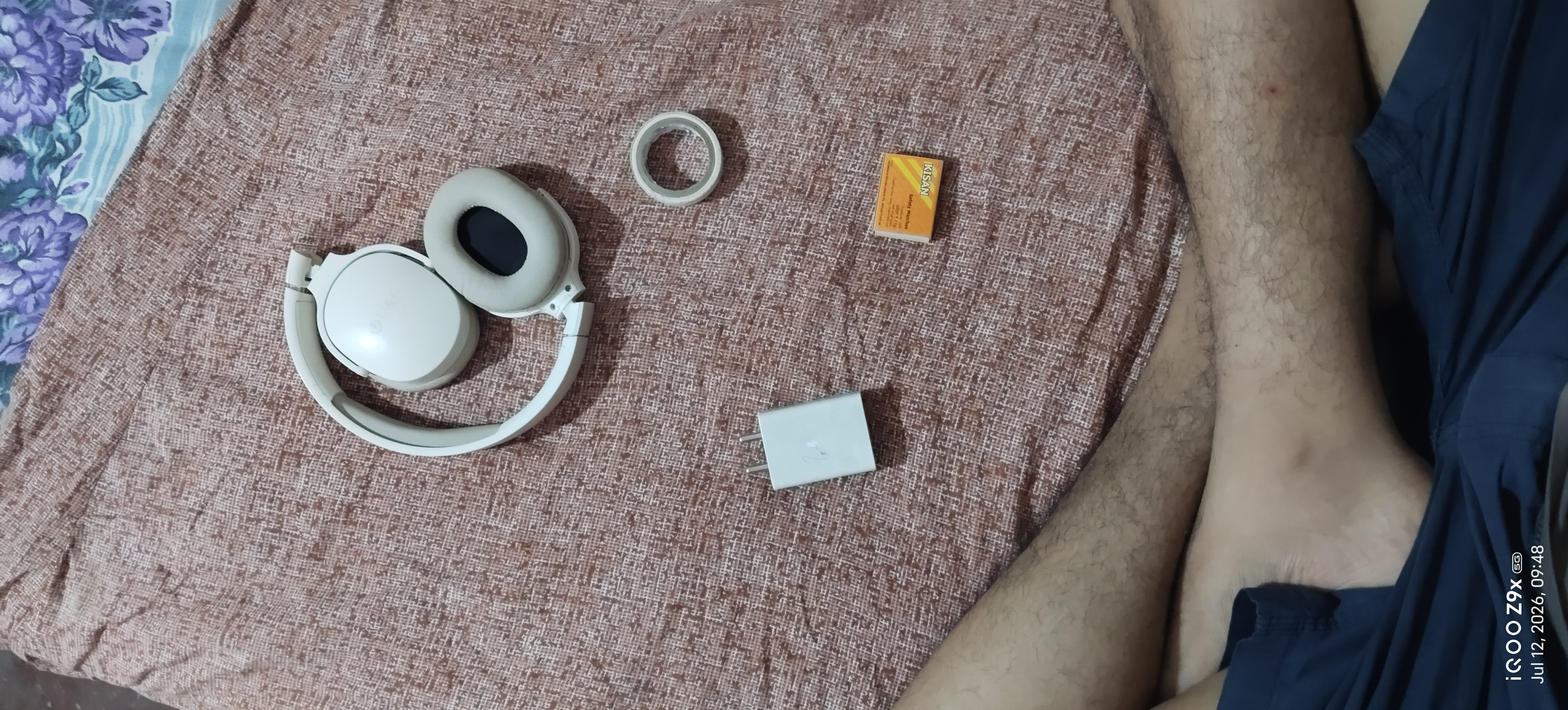charger: (729, 385, 891, 502)
matchbox: (863, 143, 958, 252)
tape_roll: (622, 101, 732, 218)
